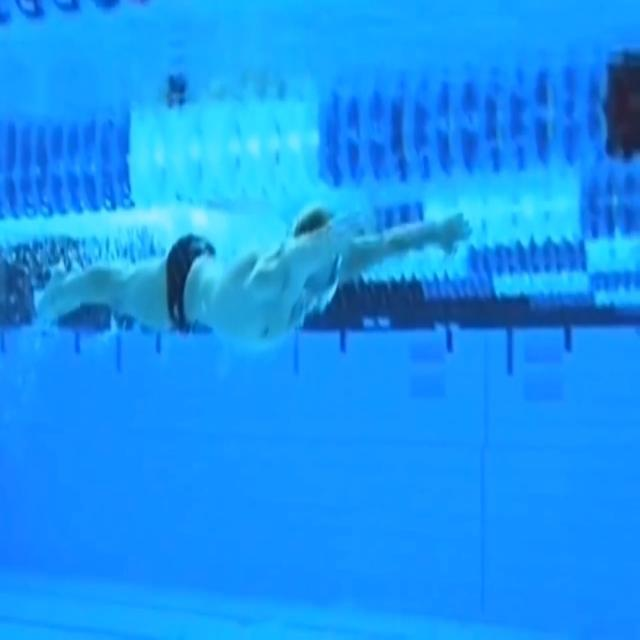Swimming: (39, 206, 471, 344)
